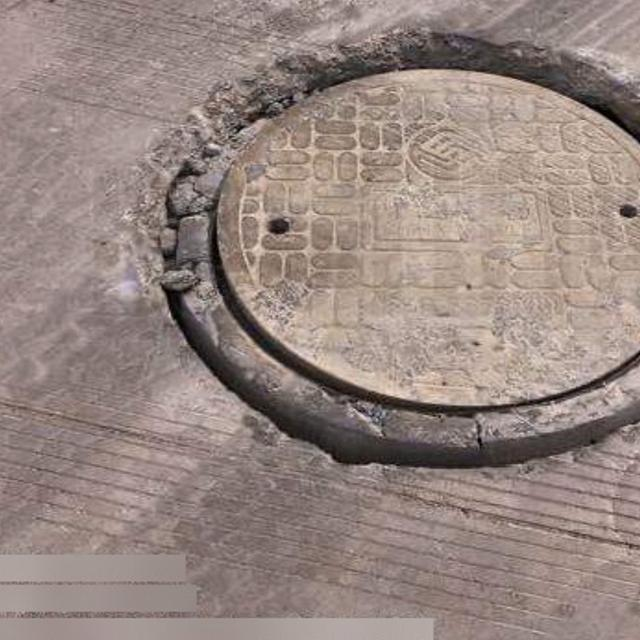circle: (144, 34, 640, 478)
